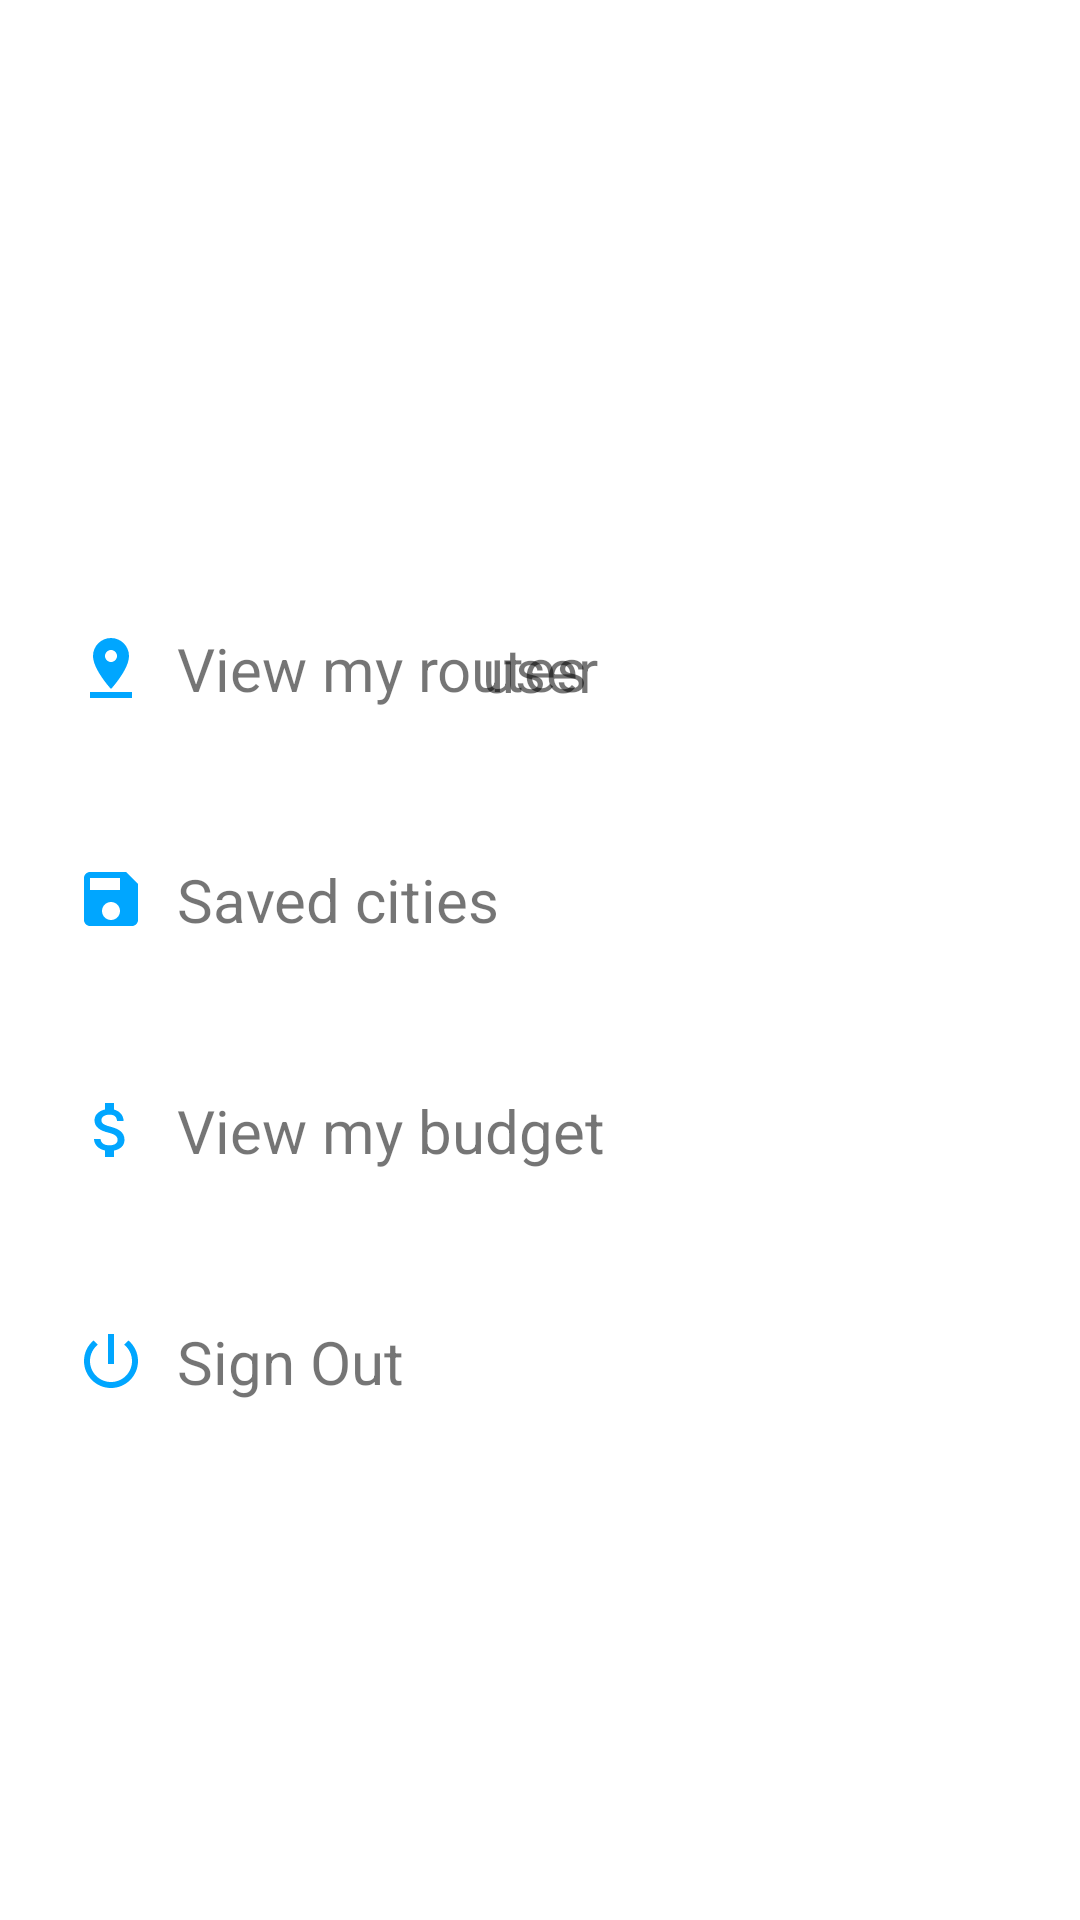

Screen size 1080 x 1920. Icon name, then its box in pixels as (x1, y1, x2, y2):
attach money: (94, 1103, 125, 1157)
pin drop: (90, 638, 132, 698)
power settings: (84, 1334, 138, 1388)
